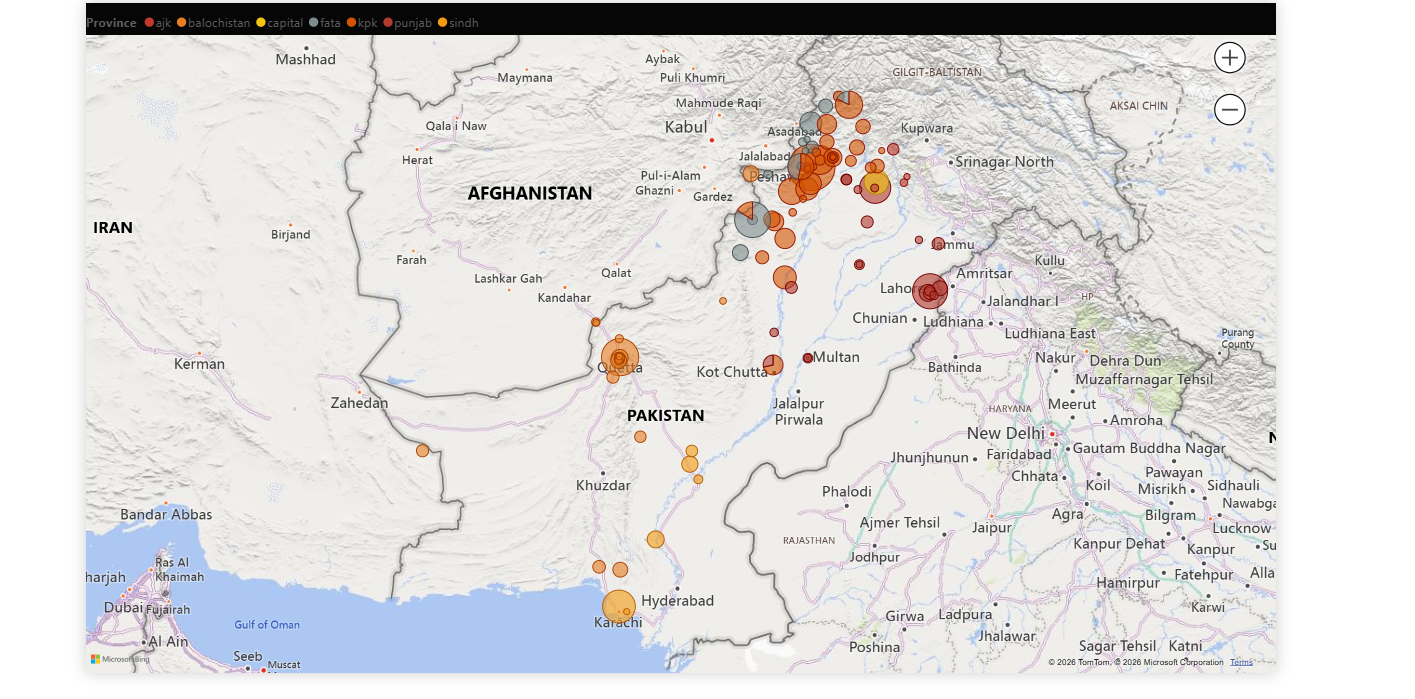

What the dashboard file says about the page in this screenshot:
{"tool":"powerbi","page":{"name":"Page 3","canvas":[1280,720],"ordinal":2},"visuals":[{"type":"map","fields":{"Y":["cleaned_explosions.Latitude"],"X":["cleaned_explosions.Longitude"],"Size":["Sum(cleaned_explosions.avg killed)"],"Series":["cleaned_explosions.Province"]},"box":[0,0,1280,720],"z":0}]}

Visuals, with their boxes on the page's 1280x720 design canvas (x1, y1, x2, y2). These are canvas units, not pixel positions in the 1415x699 screenshot, which may show the page scaled, cropped or inside an application window:
map - cleaned_explosions.Latitude x cleaned_explosions.Longitude: 0, 0, 1280, 720
